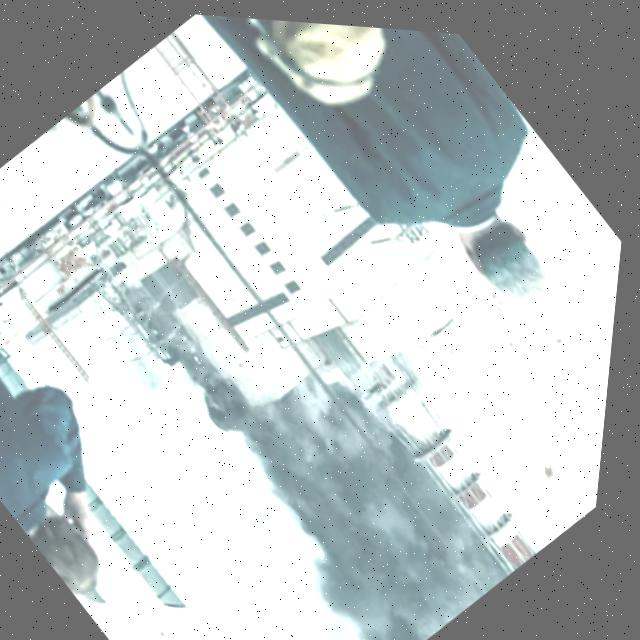Smoke: (214, 334, 538, 640)
